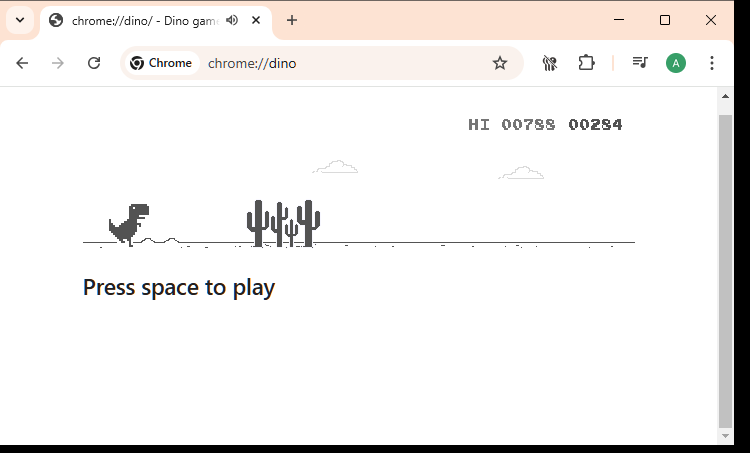cactus: (246, 199, 270, 248), (297, 200, 321, 247), (271, 201, 288, 248), (285, 219, 299, 248)
dino: (108, 203, 150, 247)
